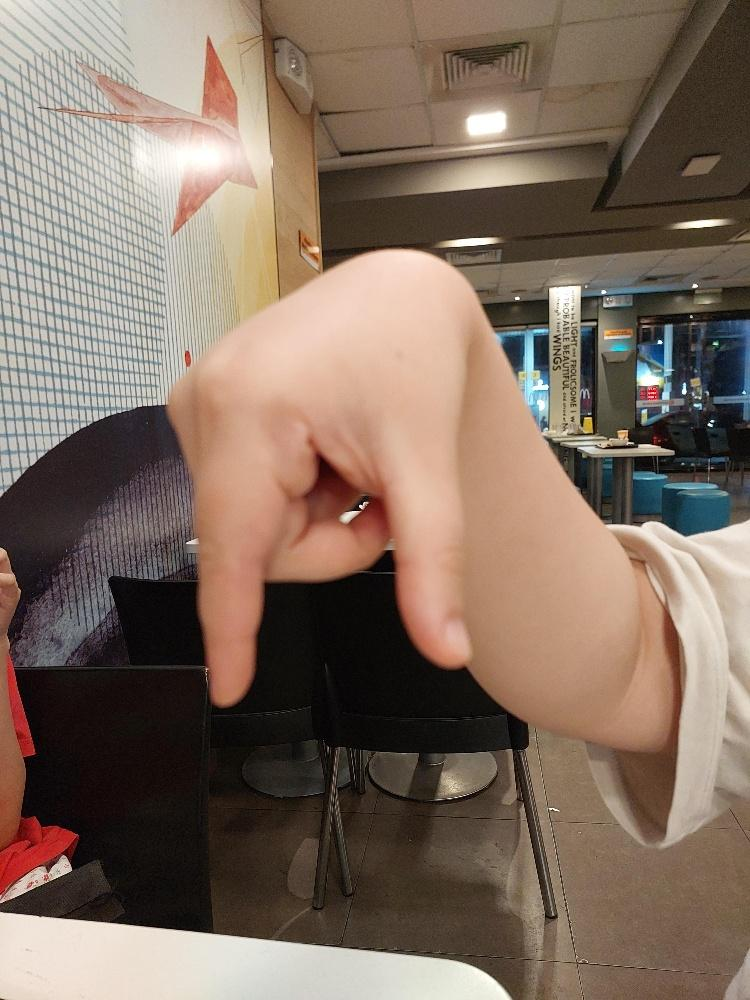q: (162, 244, 477, 708)
